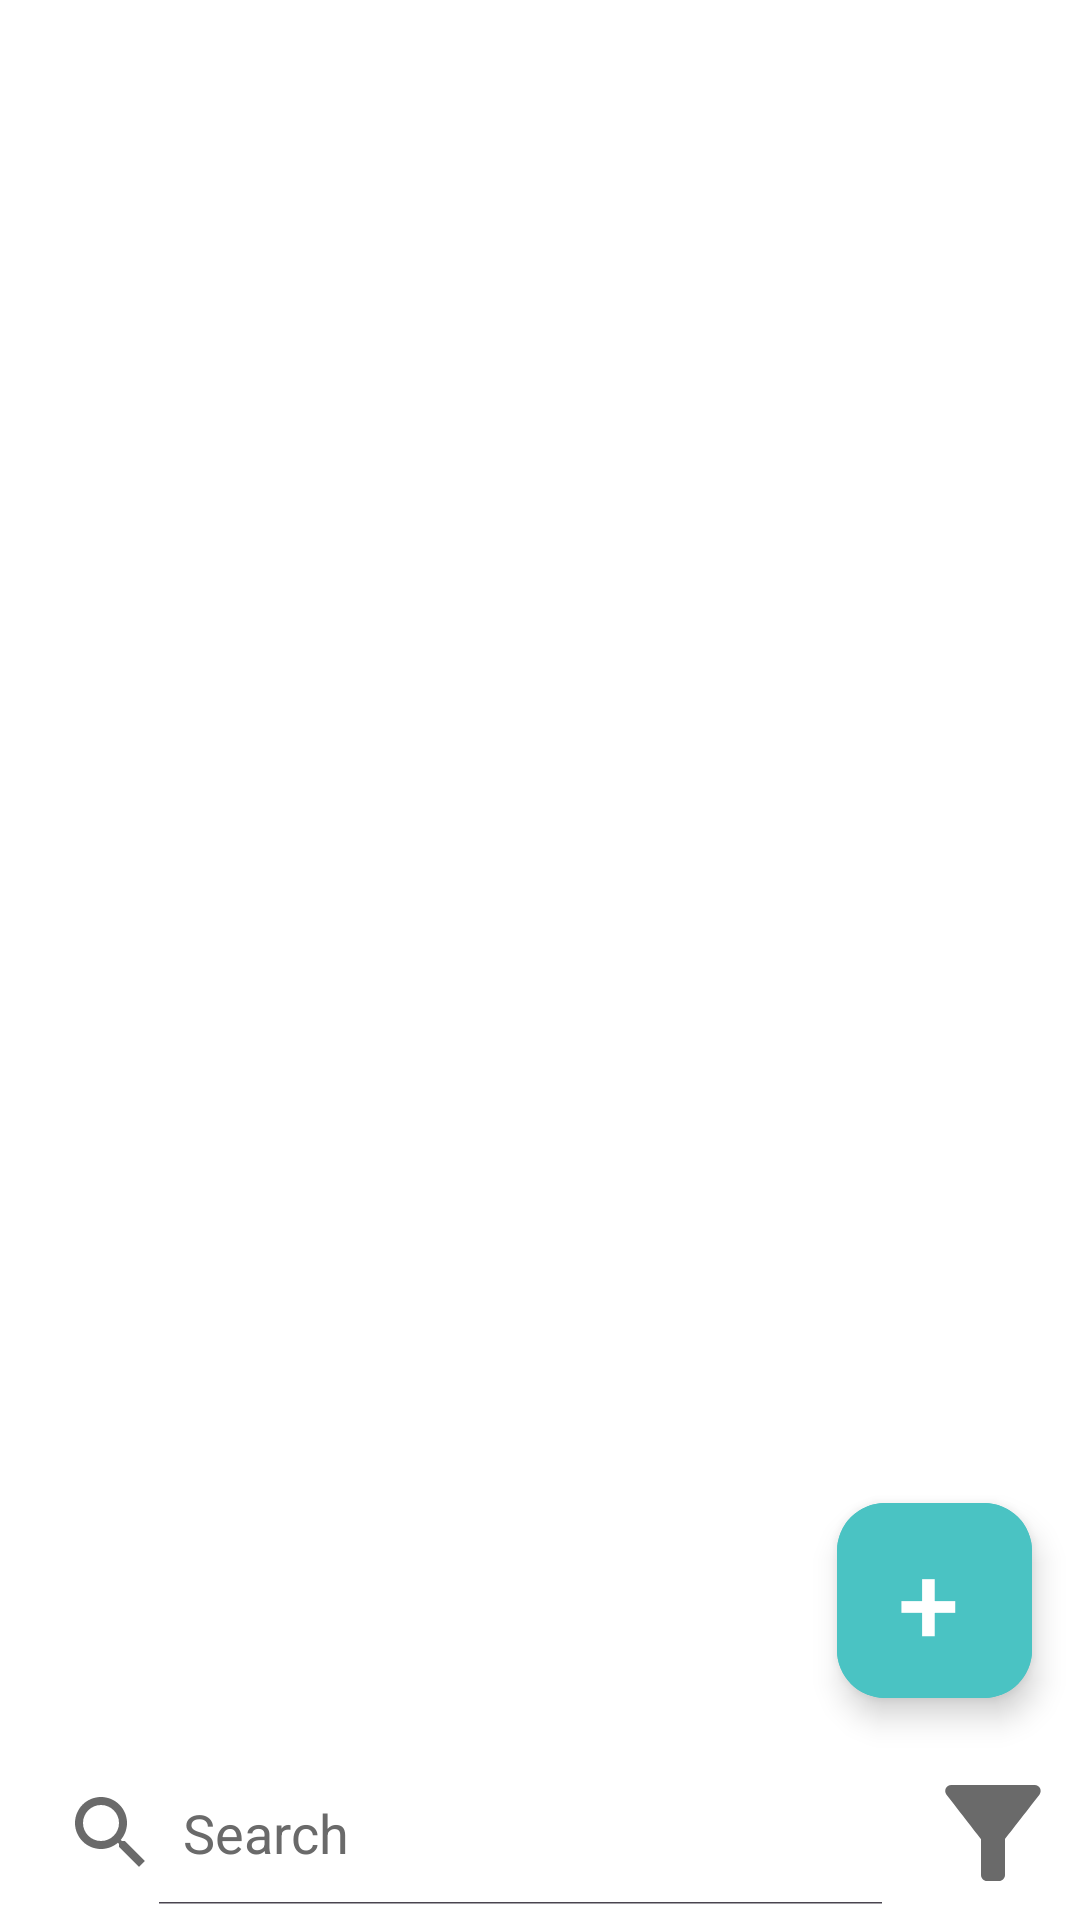

Point at icon controls on the screen. Image size 1080 x 1920, points as [x,y].
Open filter settings: [993,1833]
